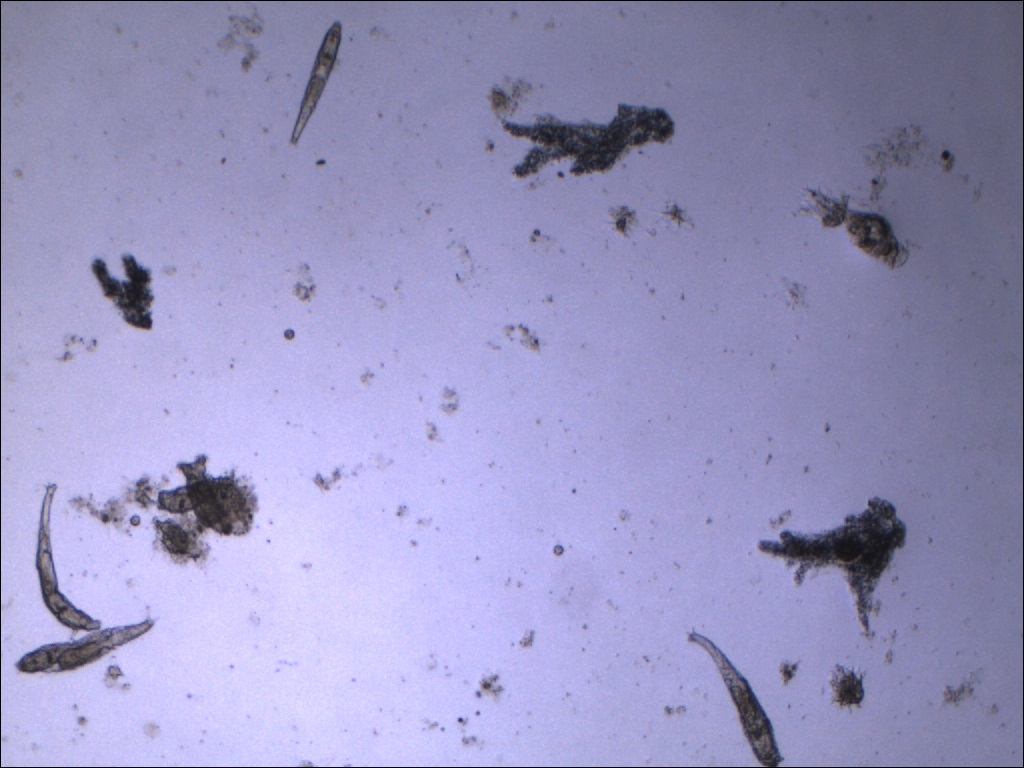amoeba: (753, 492, 913, 642), (493, 101, 682, 186), (84, 249, 164, 340)
